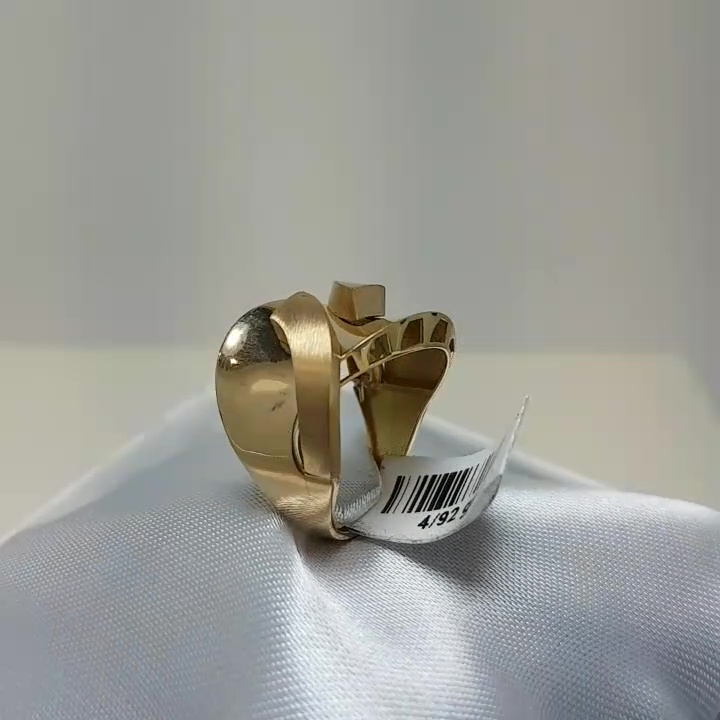Ring 4: (199, 278, 479, 545)
